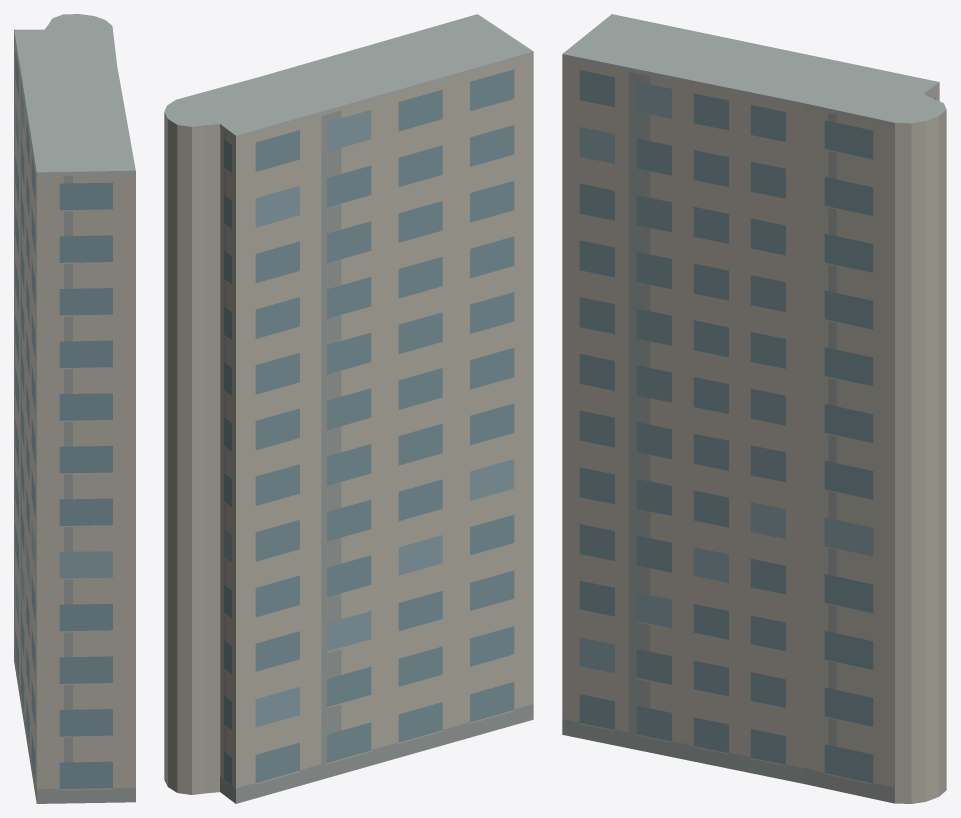
The model's file is survey-upis-33013025.glb.
The picture shows the model from 3 angles, left to right: view 1: azimuth 30°, elevation 25°; view 2: azimuth 150°, elevation 25°; view 3: azimuth 270°, elevation 25°; orthographic projection. The views are drawn at different scales.
Parts seen in each view (by area): view 1: survey-upis-33013025.tmp; view 2: survey-upis-33013025.tmp; view 3: survey-upis-33013025.tmp.
Part boxes in pixels (x1,y1,x2,y2): survey-upis-33013025.tmp: (14, 14, 135, 803); survey-upis-33013025.tmp: (164, 14, 533, 803); survey-upis-33013025.tmp: (562, 14, 946, 803).
Bounding box in the file's own units: 12.59 × 36.6 × 18.74.
